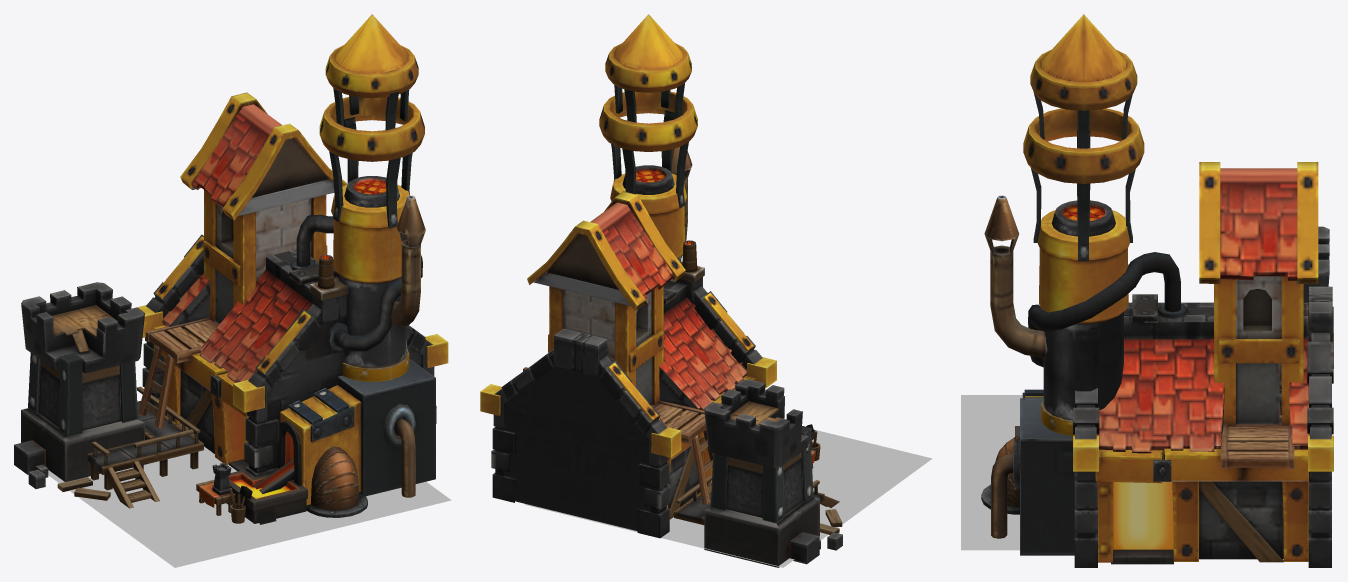
Rendered from C_DirtyWorkshop_LV6.fbx.
3 views of the same model, side by side, from view 1: azimuth 30°, elevation 25°; view 2: azimuth 150°, elevation 25°; view 3: azimuth 270°, elevation 25° (orthographic). The views are drawn at different scales.
Visible parts, largest first — view 1: Dirty_Workshop_LV06_0_mesh, Dirty_Workshop_LV06_1_mesh; view 2: Dirty_Workshop_LV06_0_mesh, Dirty_Workshop_LV06_1_mesh; view 3: Dirty_Workshop_LV06_0_mesh, Dirty_Workshop_LV06_1_mesh.
Boxes of the visible parts, x1=… form: Dirty_Workshop_LV06_0_mesh: x1=14, y1=14, x2=448, y2=524; Dirty_Workshop_LV06_1_mesh: x1=48, y1=446, x2=451, y2=567; Dirty_Workshop_LV06_0_mesh: x1=480, y1=14, x2=842, y2=567; Dirty_Workshop_LV06_1_mesh: x1=525, y1=430, x2=932, y2=567; Dirty_Workshop_LV06_0_mesh: x1=981, y1=14, x2=1333, y2=567; Dirty_Workshop_LV06_1_mesh: x1=961, y1=395, x2=1022, y2=550.
Size of the model in its own units: 149 by 189 by 122.
